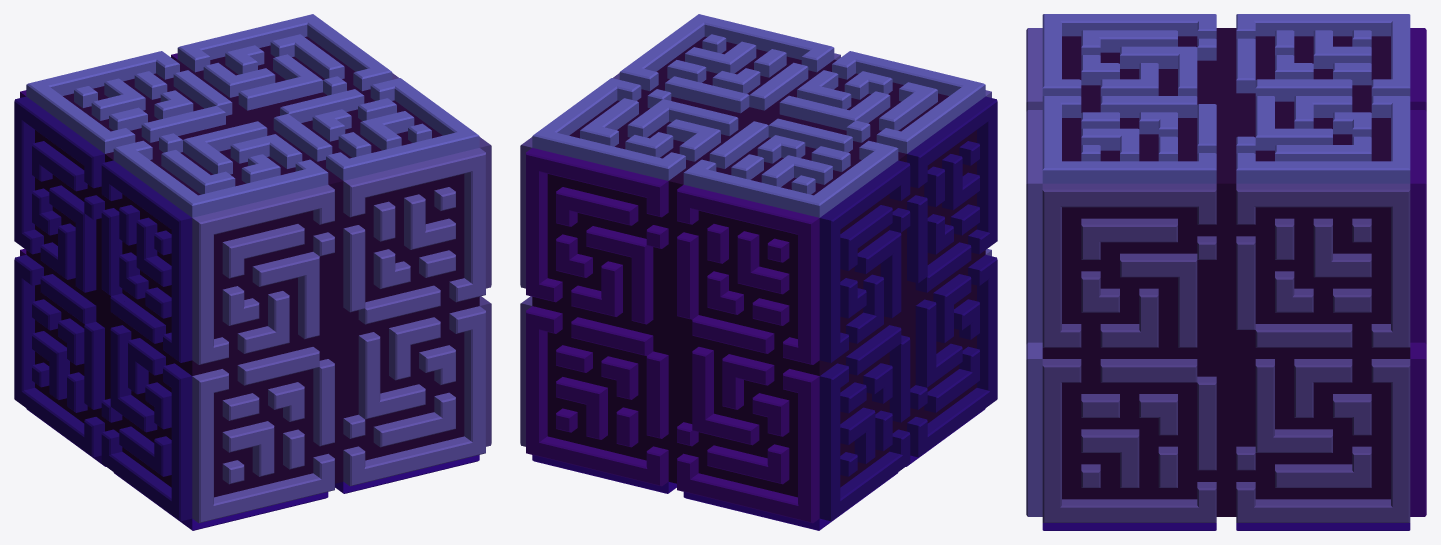
File: Parker_L2_V3.fbx
3 renders of one model, left to right at view 1: azimuth 30°, elevation 25°; view 2: azimuth 150°, elevation 25°; view 3: azimuth 270°, elevation 25°, orthographic. The views are drawn at different scales.
Visible parts, largest first — view 1: Level_1_V3_Combined; view 2: Level_1_V3_Combined; view 3: Level_1_V3_Combined.
Part boxes in pixels (x1,y1,x2,y2): Level_1_V3_Combined: (14,14,491,530); Level_1_V3_Combined: (520,14,997,530); Level_1_V3_Combined: (1026,14,1426,530).
Bounding box in the file's own units: 62.03 × 62.03 × 62.03.
Materials: 1 (1 with a texture image).
